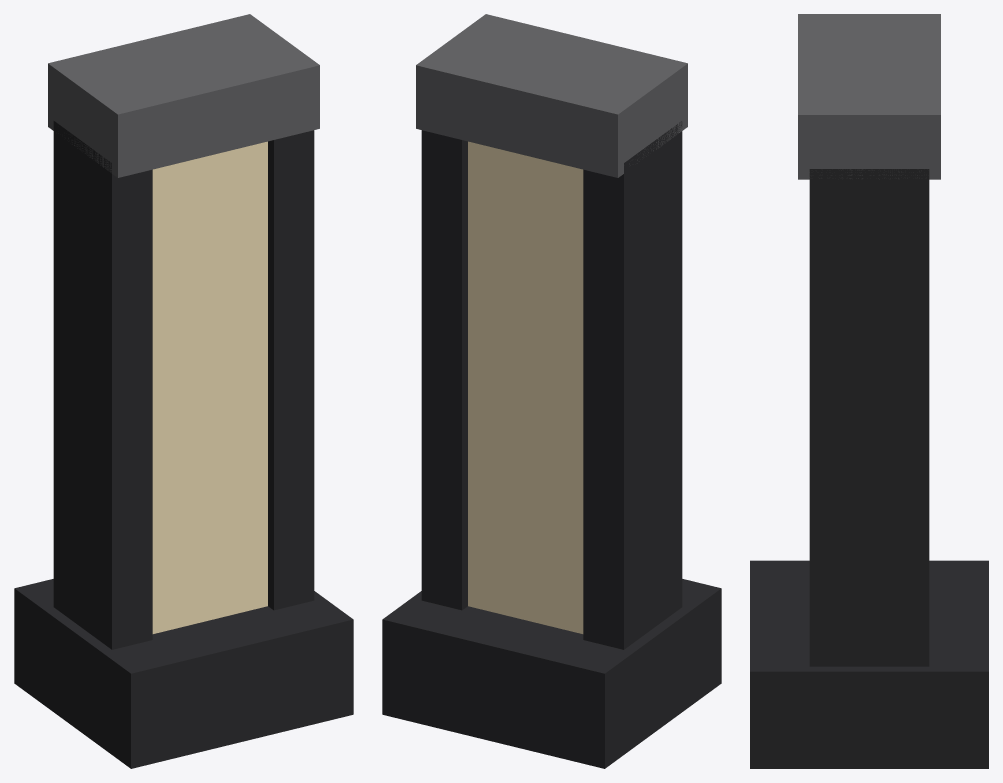
File: vge_orbital_light.obj
3 renders of one model, left to right at view 1: azimuth 30°, elevation 25°; view 2: azimuth 150°, elevation 25°; view 3: azimuth 270°, elevation 25°, orthographic. The views are drawn at different scales.
Visible parts, largest first — view 1: vge_orbital_light_3, vge_orbital_light_1, vge_orbital_light_0, vge_orbital_light_4, vge_orbital_light_2; view 2: vge_orbital_light_3, vge_orbital_light_1, vge_orbital_light_0, vge_orbital_light_4, vge_orbital_light_2; view 3: vge_orbital_light_2, vge_orbital_light_0, vge_orbital_light_4.
Part boxes in pixels (box(x1,y1,x2,y2)): vge_orbital_light_3: box(152, 141, 267, 633); vge_orbital_light_1: box(53, 121, 152, 649); vge_orbital_light_0: box(14, 579, 353, 768); vge_orbital_light_4: box(48, 14, 319, 177); vge_orbital_light_2: box(268, 130, 314, 610); vge_orbital_light_3: box(468, 141, 583, 633); vge_orbital_light_1: box(583, 121, 682, 649); vge_orbital_light_0: box(382, 579, 721, 768); vge_orbital_light_4: box(416, 14, 687, 177); vge_orbital_light_2: box(421, 130, 467, 610); vge_orbital_light_2: box(809, 169, 929, 666); vge_orbital_light_0: box(750, 560, 988, 768); vge_orbital_light_4: box(798, 14, 940, 179).
Bounding box in the file's own units: 0.44 × 1.2 × 0.4.
